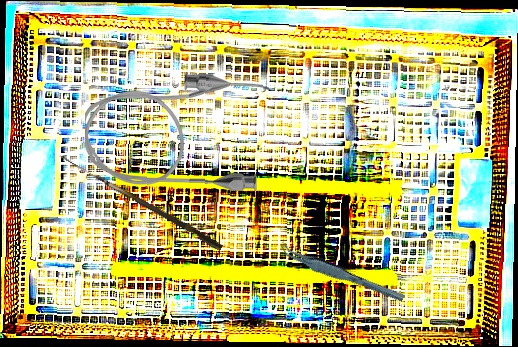Cannula: (83, 71, 270, 192)
Hook Surgical: (55, 154, 225, 252)
Tissue Forceps: (277, 230, 406, 316)
